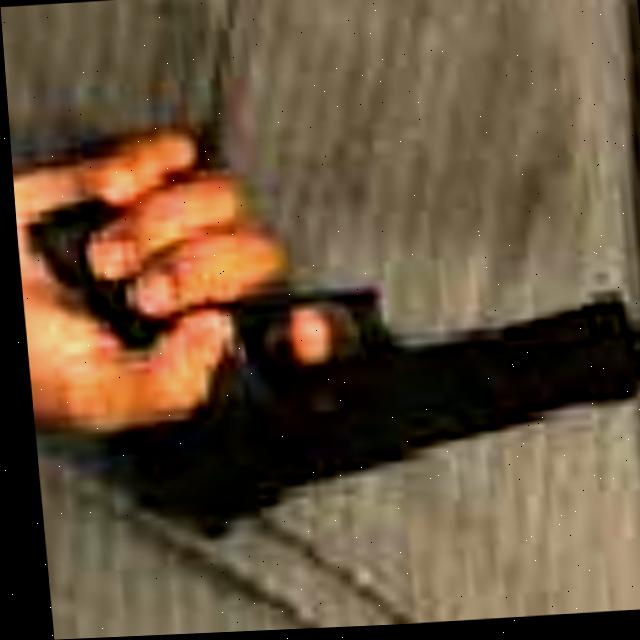pistol: (8, 117, 640, 566), (10, 135, 624, 514)
